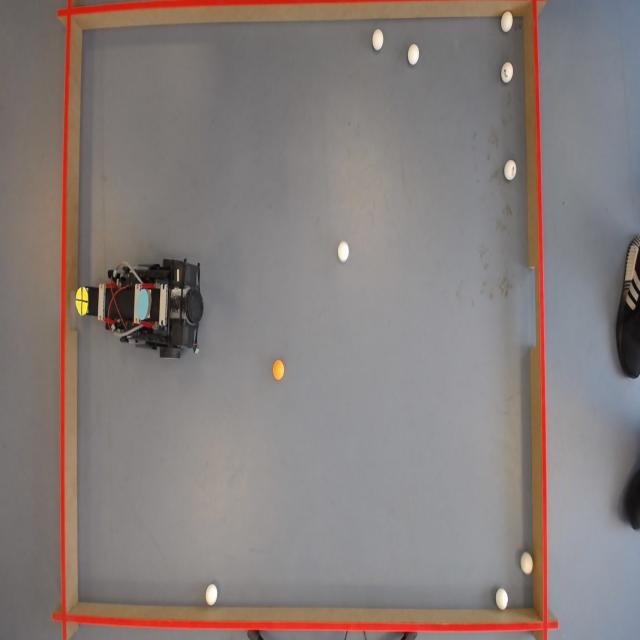orange: (272, 360, 286, 380)
robot: (74, 259, 209, 354)
robot-front: (75, 284, 89, 316)
robot-rear: (134, 285, 152, 319)
white: (520, 553, 535, 577), (495, 588, 509, 612), (205, 584, 219, 608), (408, 45, 422, 67), (503, 161, 517, 182), (500, 10, 513, 32), (373, 29, 386, 51), (337, 241, 350, 262), (501, 62, 514, 83)
